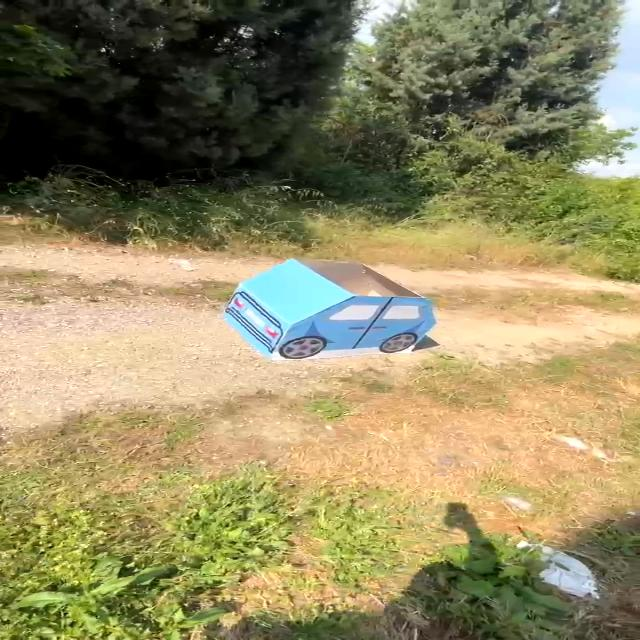blue_car: (201, 246, 446, 376)
